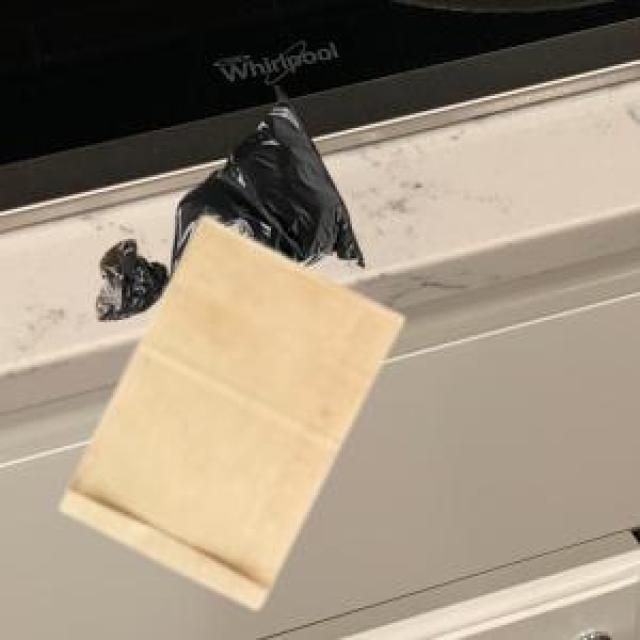miscellaneous trash: (92, 83, 361, 316)
paper: (58, 213, 399, 604)
